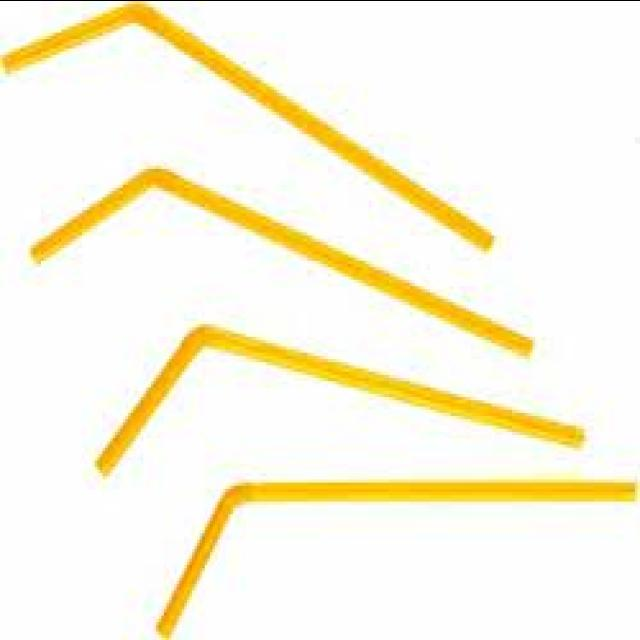straw: (0, 3, 492, 249), (30, 168, 532, 355), (95, 324, 583, 474), (156, 484, 636, 636)
